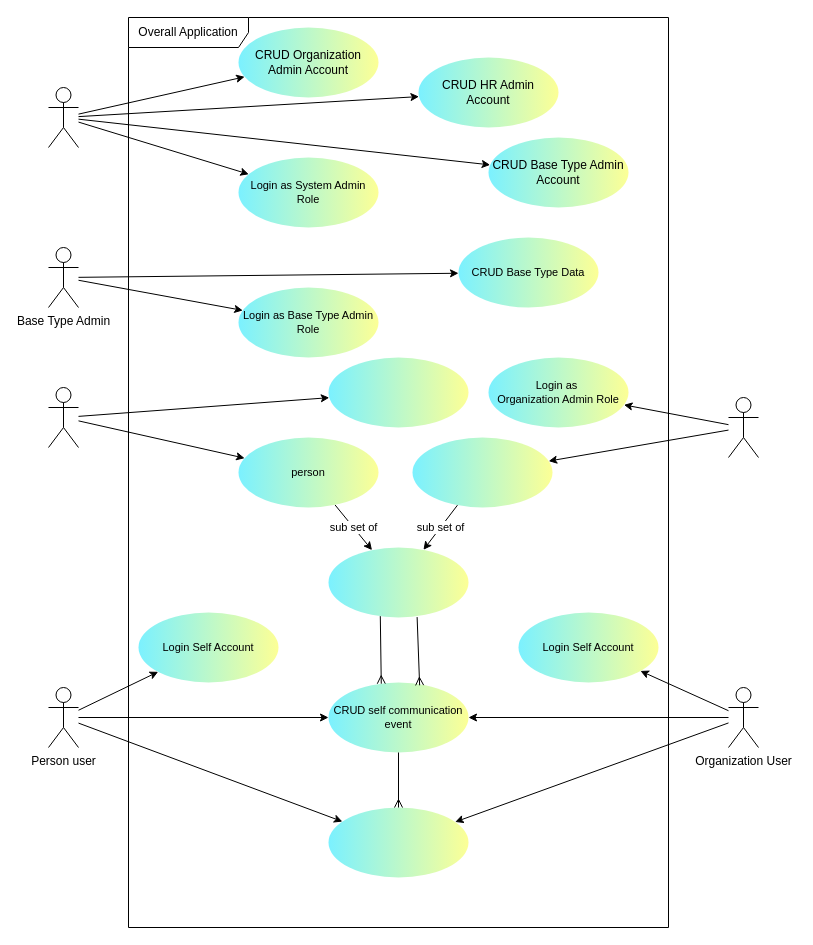
The diagram is 813 pixels wide and 945 high, and some of its shapes have lost their labels. Here are the shapes that lost their labels. From the top down, the centre of each, then its label:
point 63,117: System Admin
point 398,392: CRUD Person Account and I nfo
point 63,417: HR Admin
point 743,427: Organization Admin
point 482,472: organization
point 398,582: CRUD party
point 398,842: CRUD self communication event purpose
